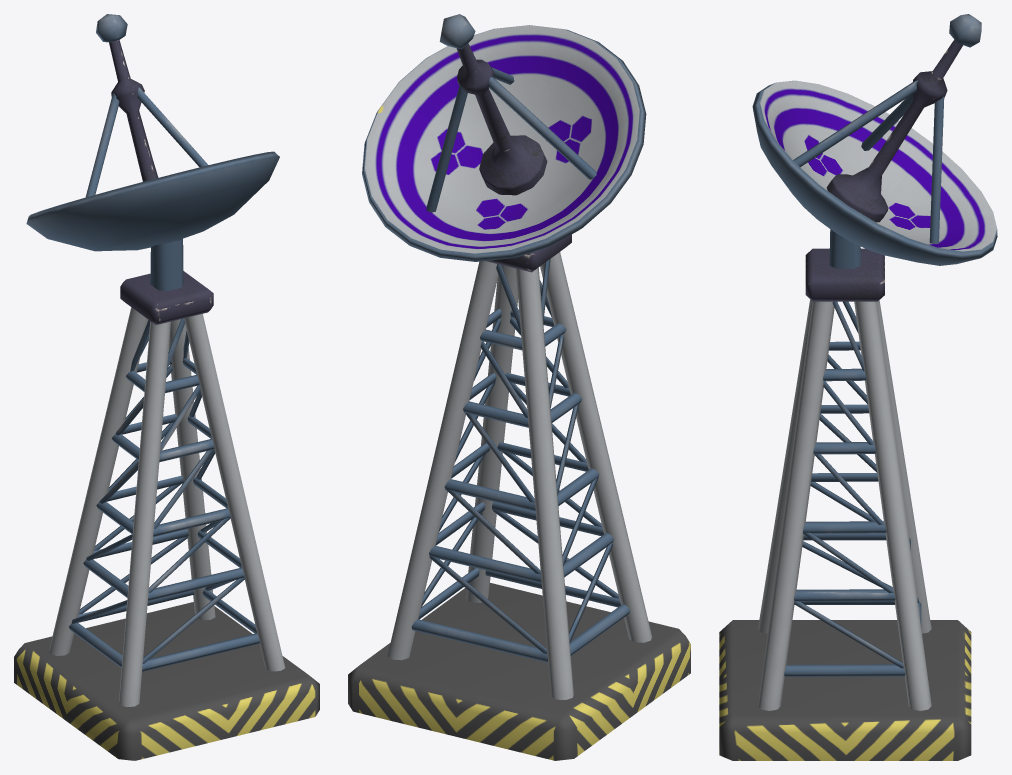
File: SM_Antenna_01.fbx
3 views of the same model, side by side, from view 1: azimuth 30°, elevation 25°; view 2: azimuth 150°, elevation 25°; view 3: azimuth 270°, elevation 25° (orthographic). The views are drawn at different scales.
Visible parts, largest first — view 1: SM_Antenna_01; view 2: SM_Antenna_01; view 3: SM_Antenna_01.
Boxes of the visible parts, x1=… form: SM_Antenna_01: x1=14, y1=14, x2=319, y2=760; SM_Antenna_01: x1=348, y1=14, x2=690, y2=760; SM_Antenna_01: x1=719, y1=14, x2=997, y2=760.
Bounding box in the file's own units: 111 × 109 × 300.
Materials: 1 (1 with a texture image).
